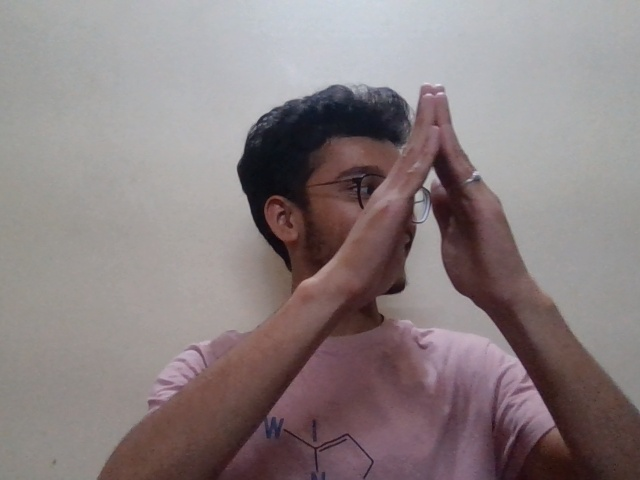home: (331, 81, 561, 360)
